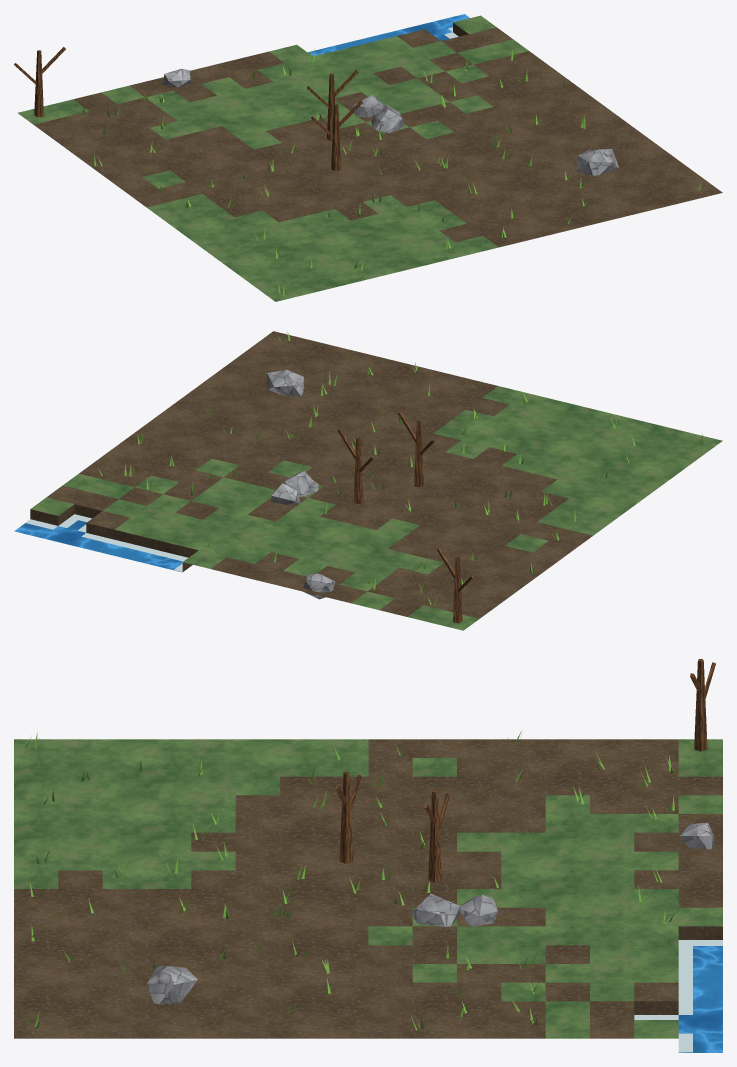
File: chunk_0_17.glb
3 views of the same model, one above another, from view 1: azimuth 30°, elevation 25°; view 2: azimuth 150°, elevation 25°; view 3: azimuth 270°, elevation 25° (orthographic). The views are drawn at different scales.
Parts seen in each view (by area): view 1: chunk_0_17; view 2: chunk_0_17; view 3: chunk_0_17.
Boxes of the visible parts, left/top/right/bottom form: chunk_0_17: left=14, top=14, right=722, bottom=301; chunk_0_17: left=14, top=331, right=722, bottom=630; chunk_0_17: left=14, top=659, right=722, bottom=1052.
Size of the model in its own units: 16.24 by 2.67 by 16.
7 materials, 5 textured.
